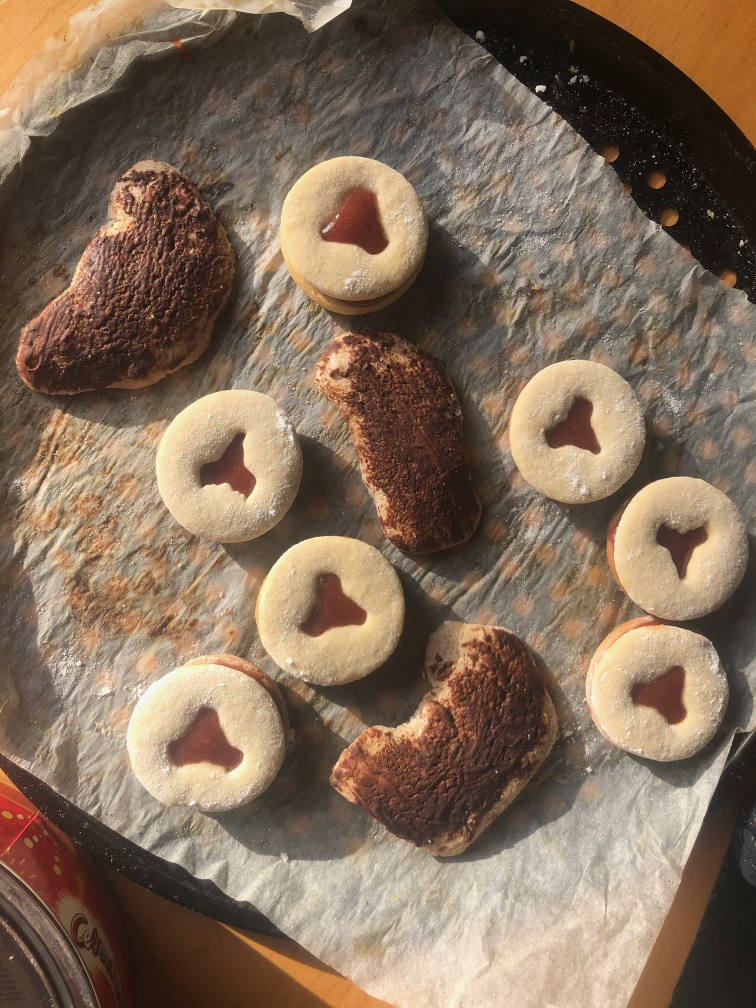christmas shortbread with jam: (125, 651, 292, 822), (277, 149, 427, 317), (252, 529, 407, 691), (153, 385, 302, 546), (579, 613, 730, 766), (604, 469, 750, 625), (505, 354, 647, 507)
weird #1: (316, 613, 564, 870), (13, 155, 242, 402), (310, 324, 488, 564)
